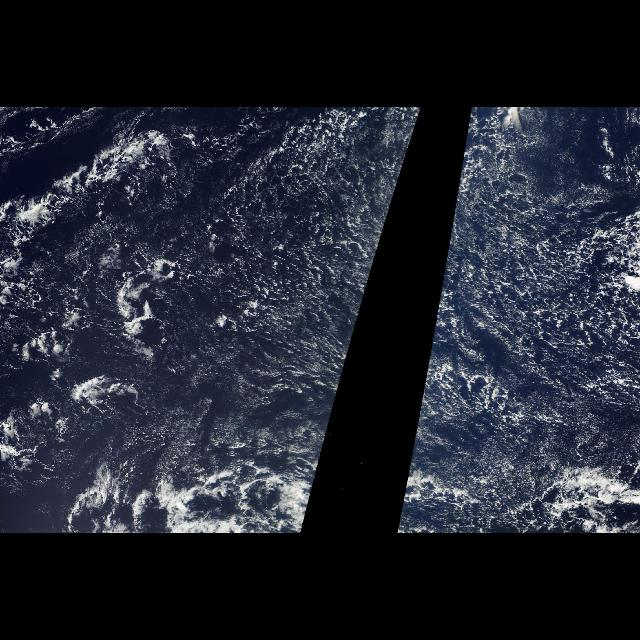Gravel: (2, 110, 422, 532), (397, 110, 638, 532)
